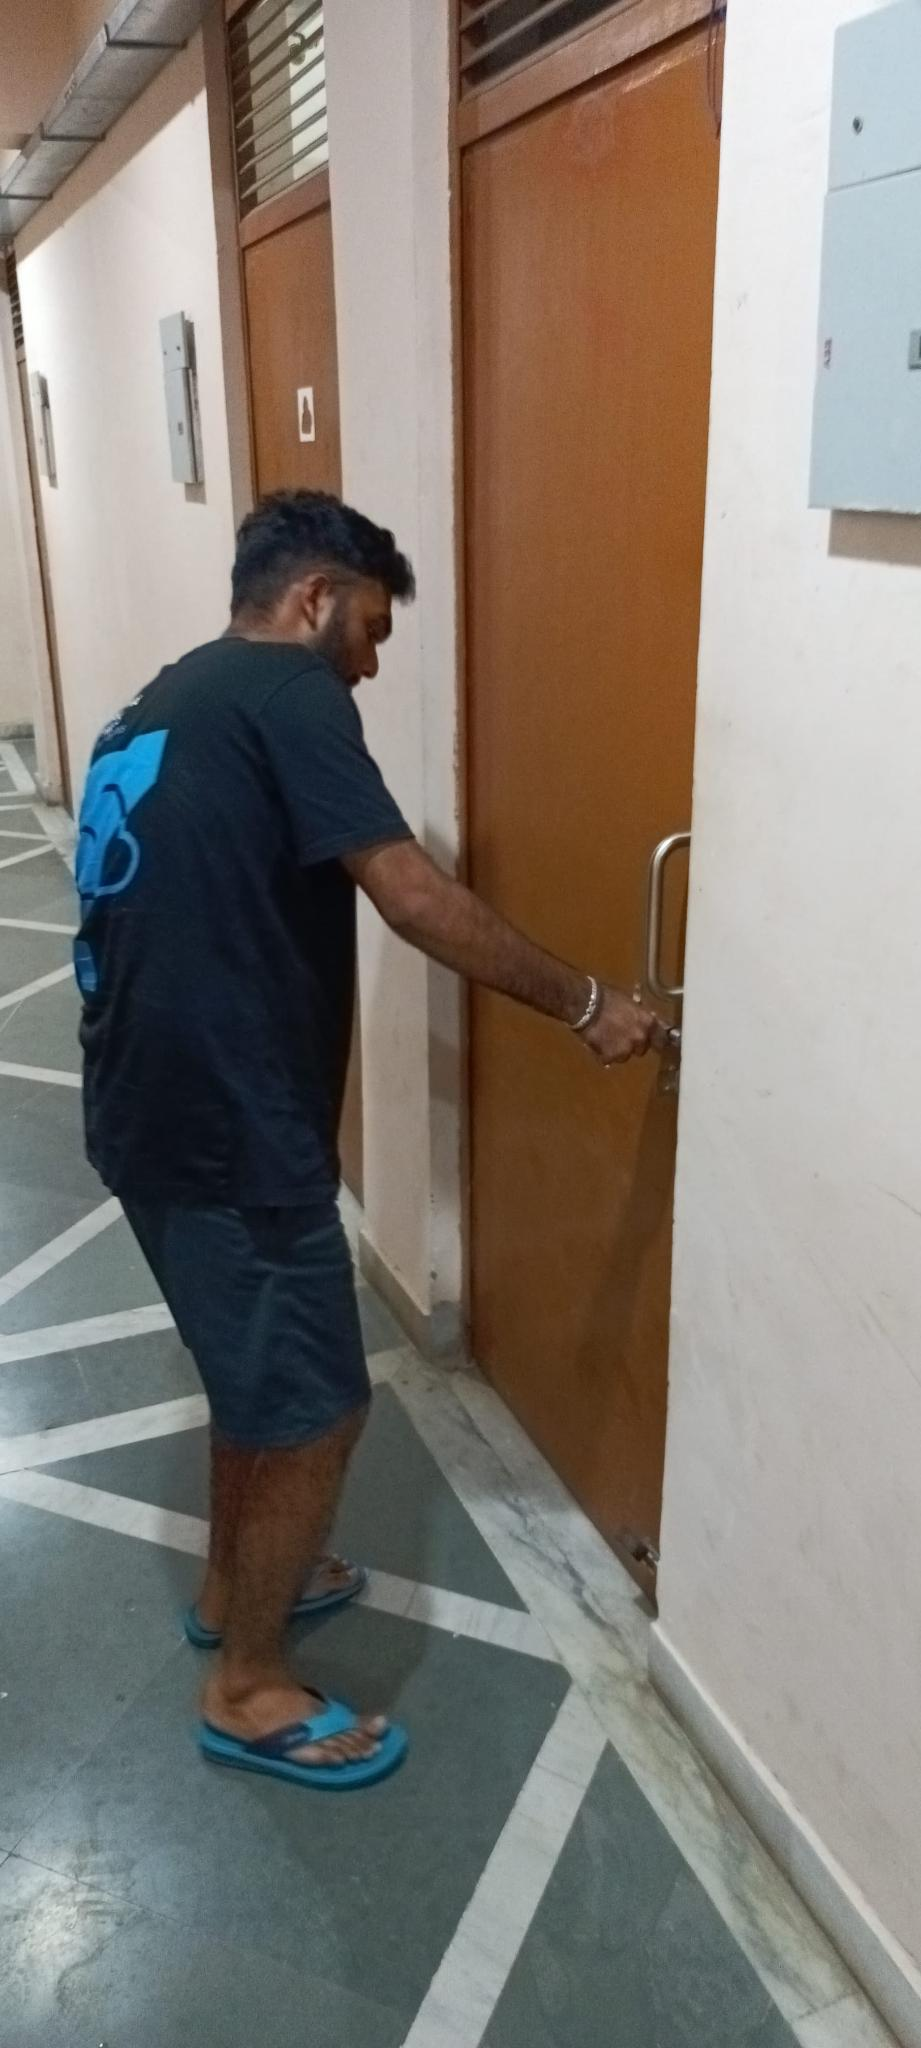suspicion: (44, 453, 733, 1831)
